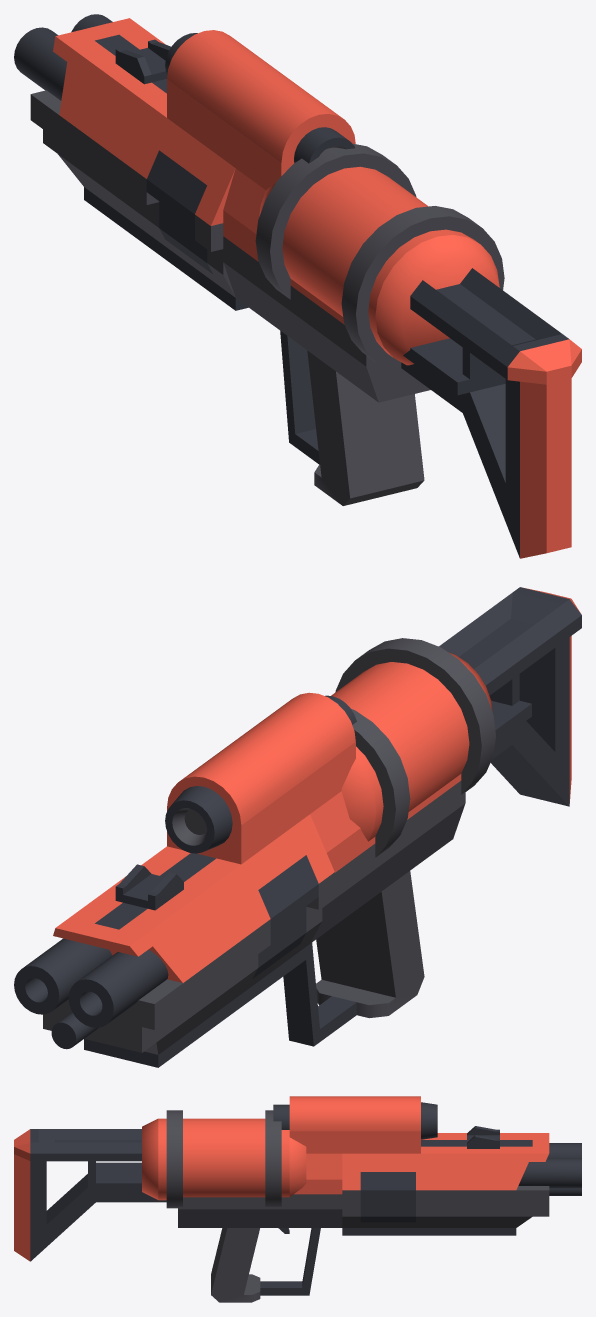
Rendered from flamethrower.glb.
3 views of the same model, one above another, from view 1: azimuth 30°, elevation 25°; view 2: azimuth 150°, elevation 25°; view 3: azimuth 270°, elevation 25° (orthographic). The views are drawn at different scales.
Visible parts, largest first — view 1: attachment_barrel, stock_stealth, mediumBlaster_handleGuardSmall, largeBlaster_barrelDouble, scope_small, largeBlaster_centerDetail, detailTargetSight; view 2: largeBlaster_barrelDouble, mediumBlaster_handleGuardSmall, attachment_barrel, scope_small, stock_stealth, largeBlaster_centerDetail, detailTargetSight; view 3: attachment_barrel, largeBlaster_barrelDouble, mediumBlaster_handleGuardSmall, stock_stealth, scope_small, largeBlaster_centerDetail, detailTargetSight.
Part boxes in pixels (box(x1,y1,x2,y2)): attachment_barrel: box(255, 143, 504, 375); stock_stealth: box(401, 268, 581, 558); mediumBlaster_handleGuardSmall: box(223, 168, 430, 505); largeBlaster_barrelDouble: box(14, 14, 166, 251); scope_small: box(165, 30, 355, 190); largeBlaster_centerDetail: box(130, 107, 248, 310); detailTargetSight: box(115, 39, 170, 84); largeBlaster_barrelDouble: box(14, 854, 254, 1067); mediumBlaster_handleGuardSmall: box(283, 774, 465, 1046); attachment_barrel: box(331, 638, 495, 857); scope_small: box(165, 692, 356, 864); stock_stealth: box(439, 587, 581, 806); largeBlaster_centerDetail: box(156, 814, 334, 1014); detailTargetSight: box(115, 864, 183, 910); attachment_barrel: box(142, 1110, 306, 1208); largeBlaster_barrelDouble: box(434, 1133, 581, 1235); mediumBlaster_handleGuardSmall: box(178, 1153, 342, 1302); stock_stealth: box(14, 1129, 166, 1261); scope_small: box(273, 1096, 437, 1153); largeBlaster_centerDetail: box(342, 1138, 434, 1235); detailTargetSight: box(467, 1126, 499, 1148).
Bounding box in the file's own units: 0.6 × 1.3 × 3.46.
